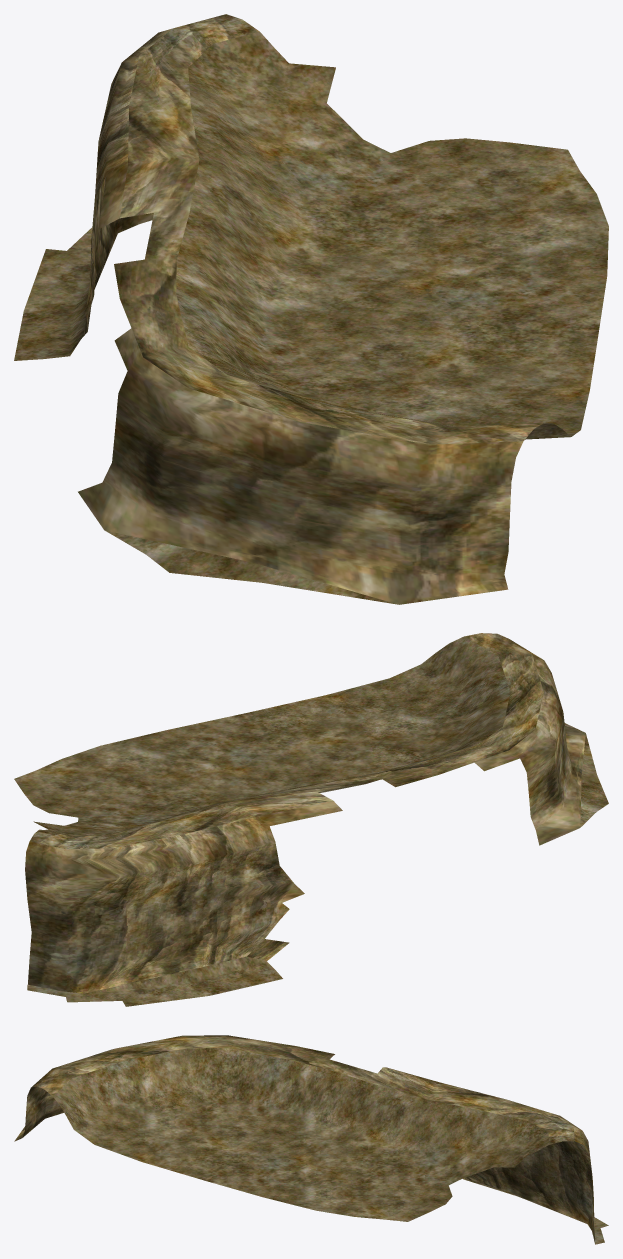
File: RM_PLAYSURFACE_FINAL_MESH04.fbx
3 views of the same model, one above another, from view 1: azimuth 30°, elevation 25°; view 2: azimuth 150°, elevation 25°; view 3: azimuth 270°, elevation 25° (orthographic). The views are drawn at different scales.
Parts seen in each view (by area): view 1: RM_PLAYSURFACE_FINAL_MESH04; view 2: RM_PLAYSURFACE_FINAL_MESH04; view 3: RM_PLAYSURFACE_FINAL_MESH04.
Boxes of the visible parts, x1,y1,x2,y2 form: RM_PLAYSURFACE_FINAL_MESH04: [14, 14, 608, 604]; RM_PLAYSURFACE_FINAL_MESH04: [14, 633, 608, 1006]; RM_PLAYSURFACE_FINAL_MESH04: [14, 1035, 608, 1244].
Bounding box in the file's own units: 178320 × 53723 × 260239.
Materials: 4 (4 with a texture image).
